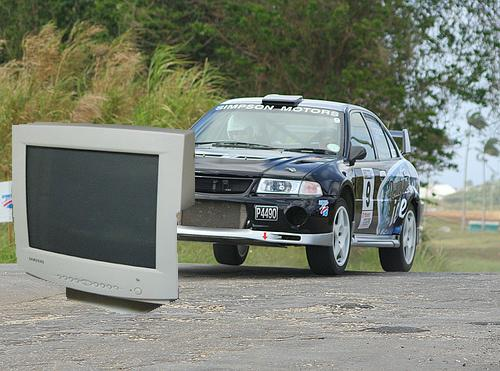tampered: (13, 123, 195, 314)
